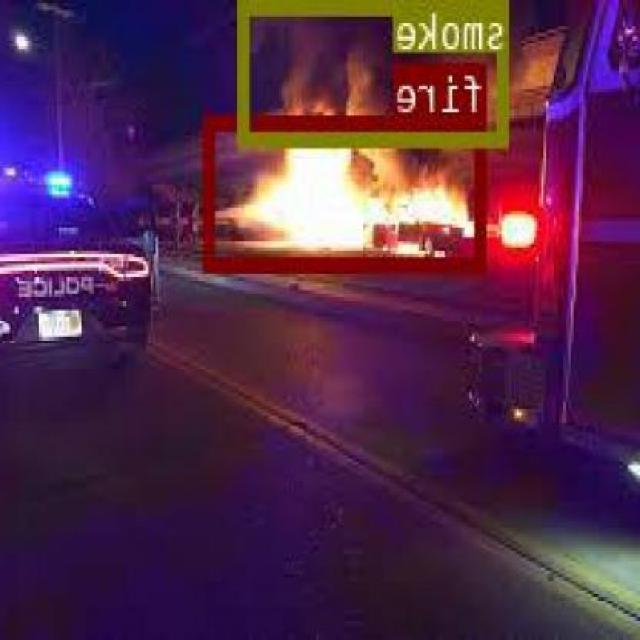Fire: (207, 112, 487, 268)
Smoke: (240, 0, 511, 142)
